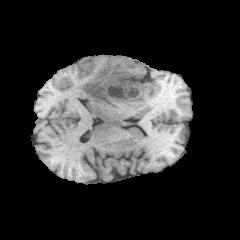glioma: (79, 58, 148, 107)
